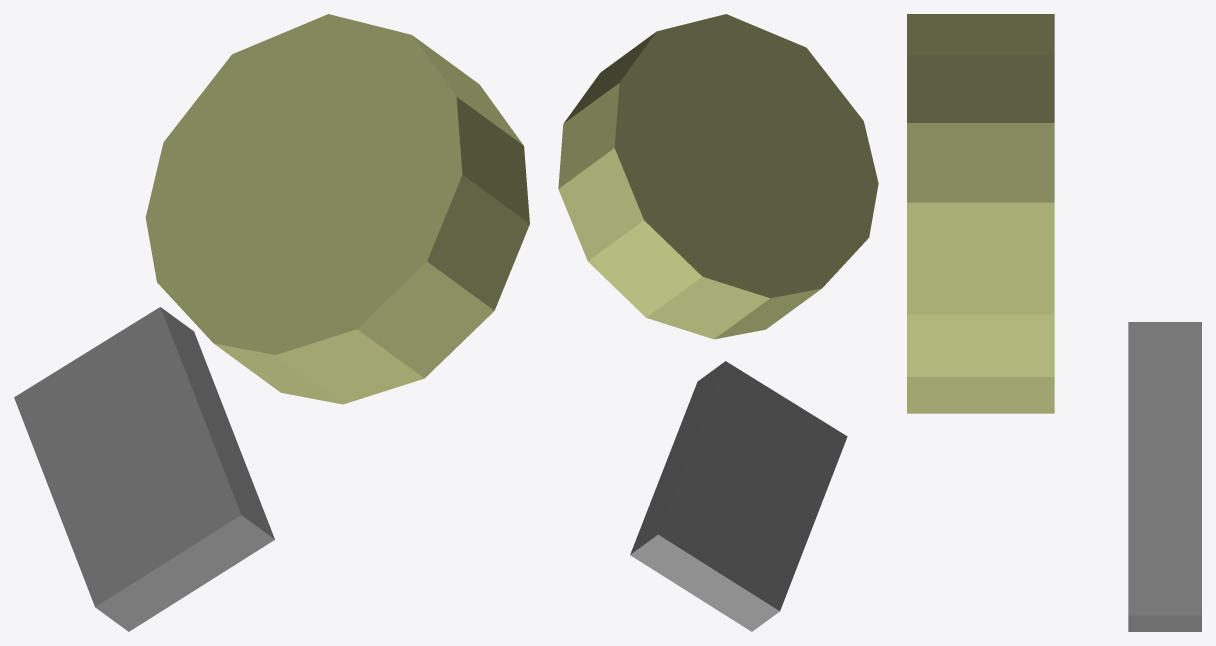
3 renders of one model, left to right at view 1: azimuth 30°, elevation 25°; view 2: azimuth 150°, elevation 25°; view 3: azimuth 270°, elevation 25°, orthographic. The views are drawn at different scales.
Visible parts, largest first — view 1: 0_3_1_3_3_0_3_1_1; view 2: 0_3_1_3_3_0_3_1_1; view 3: 0_3_1_3_3_0_3_1_1.
Boxes of the visible parts, x1,y1,x2,y2 form: 0_3_1_3_3_0_3_1_1: (14,14,529,631); 0_3_1_3_3_0_3_1_1: (558,14,878,631); 0_3_1_3_3_0_3_1_1: (907,14,1201,631).
Size of the model in its own units: 19.54 by 29.52 by 12.
